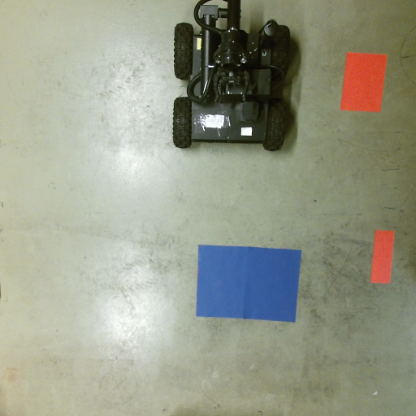Blue: (197, 244, 299, 323)
Jaguar: (170, 0, 290, 151)
Red: (340, 52, 387, 113), (370, 231, 394, 286)
